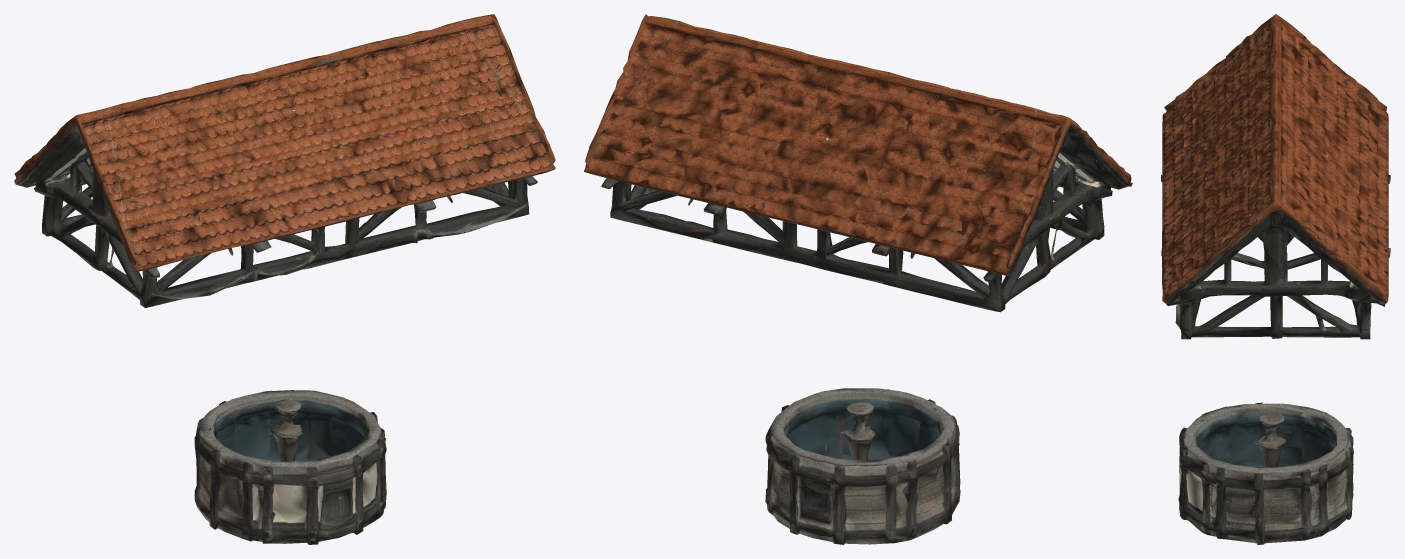
Rendered from markt.glb.
3 views of the same model, side by side, from view 1: azimuth 30°, elevation 25°; view 2: azimuth 150°, elevation 25°; view 3: azimuth 270°, elevation 25° (orthographic). The views are drawn at different scales.
Bounding box in the file's own units: 1.9 × 1.89 × 0.9818.
Materials: 1 (1 with a texture image).
